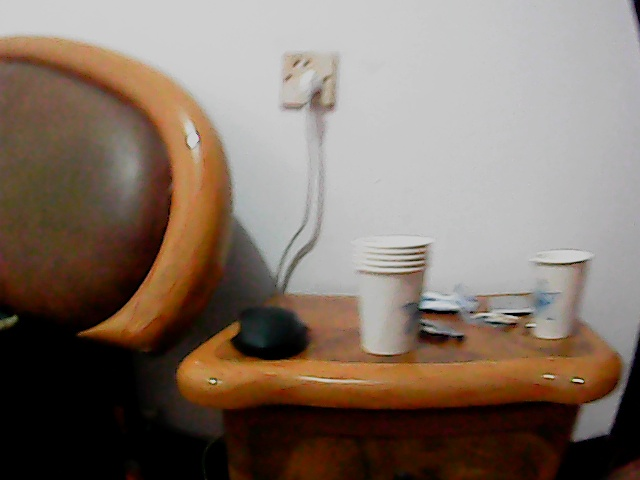cup: (351, 233, 427, 357)
mouse: (228, 302, 312, 360)
